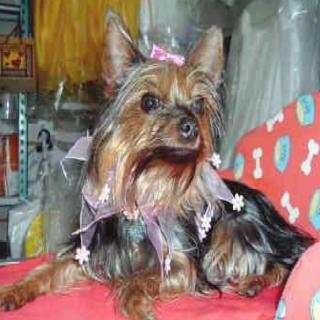dog: (92, 10, 231, 184)
nose: (170, 112, 202, 142)
